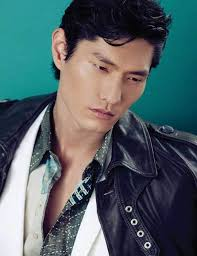asian_male: (56, 1, 157, 144)
